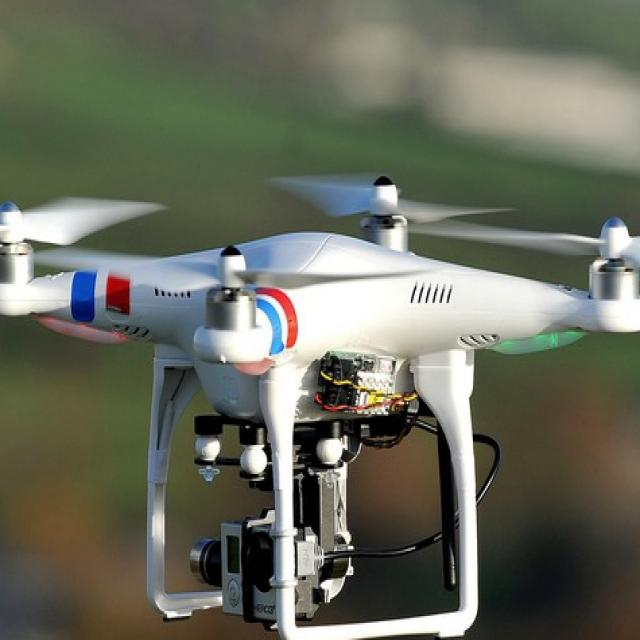drone: (0, 121, 640, 496)
